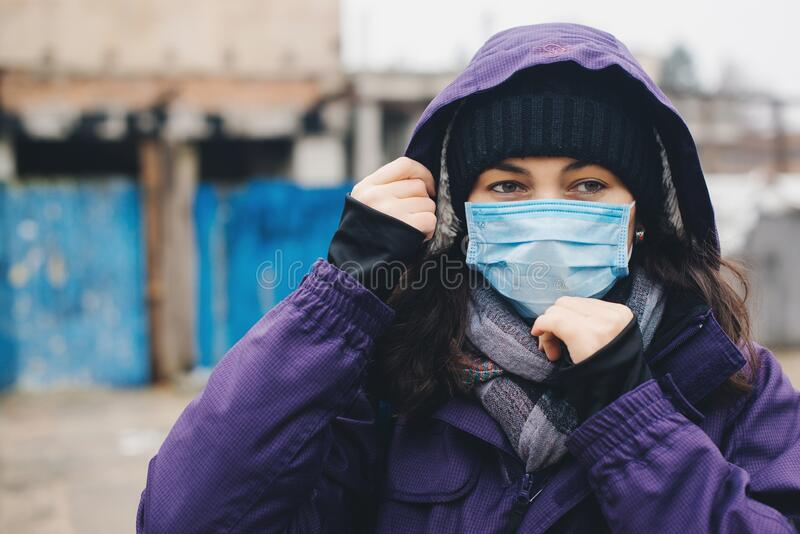with_mask: (455, 123, 652, 333)
